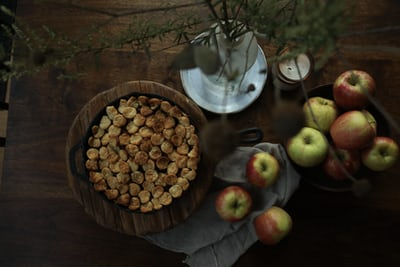apple: (328, 110, 380, 152), (330, 69, 378, 113), (284, 125, 329, 170), (252, 203, 293, 248), (320, 146, 365, 183), (214, 184, 253, 225), (360, 135, 400, 173), (246, 149, 280, 191), (299, 95, 338, 130)
